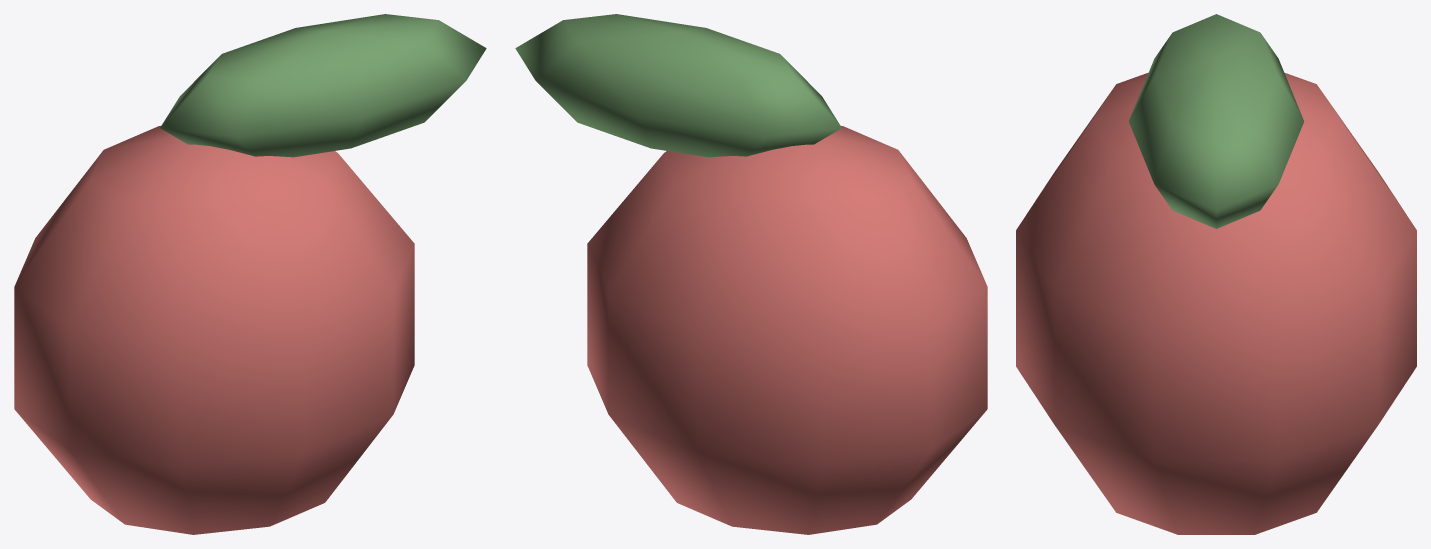
Rendered from berry_fruit.glb.
The picture shows the model from 3 angles, left to right: view 1: azimuth 30°, elevation 25°; view 2: azimuth 150°, elevation 25°; view 3: azimuth 270°, elevation 25°; orthographic projection. The views are drawn at different scales.
Parts seen in each view (by area): view 1: berry_fruit_root; view 2: berry_fruit_root; view 3: berry_fruit_root.
Boxes of the visible parts, box(x1,y1,x2,y2) form: berry_fruit_root: box(14, 14, 486, 534); berry_fruit_root: box(515, 14, 987, 534); berry_fruit_root: box(1016, 14, 1416, 534).
Size of the model in its own units: 0.25 by 0.25 by 0.1747.
